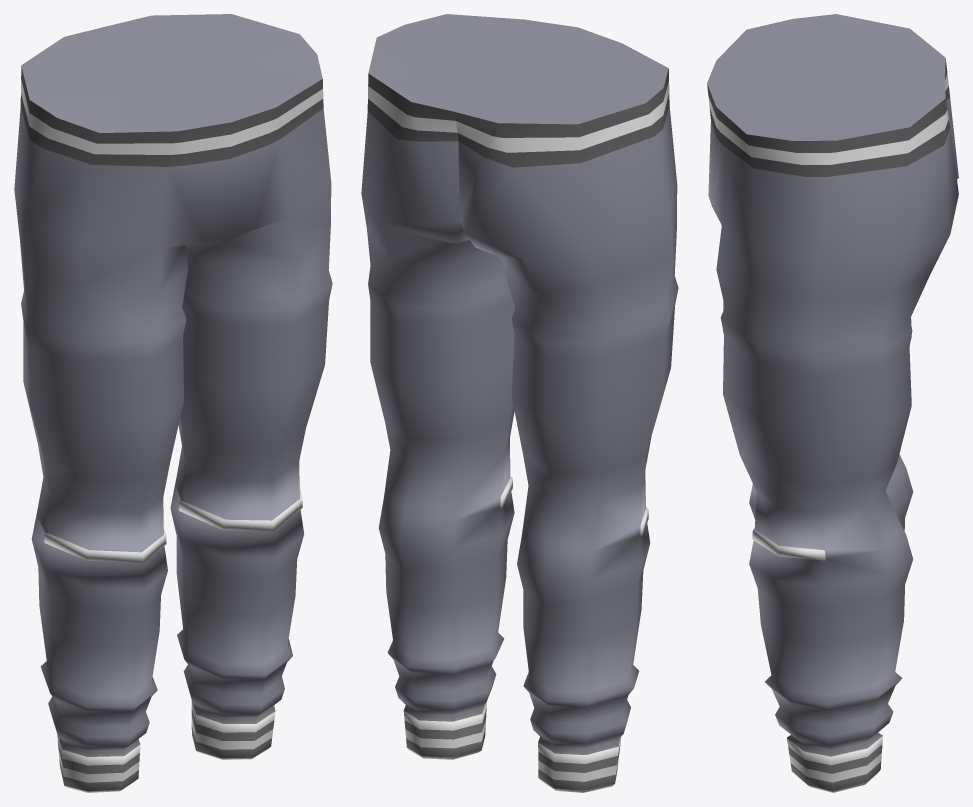
File: M_lBody_GreyJoggers.glb
The picture shows the model from 3 angles, left to right: view 1: azimuth 30°, elevation 25°; view 2: azimuth 150°, elevation 25°; view 3: azimuth 270°, elevation 25°; orthographic projection. The views are drawn at different scales.
Parts seen in each view (by area): view 1: M_lBody_GreyJoggers; view 2: M_lBody_GreyJoggers; view 3: M_lBody_GreyJoggers.
Boxes of the visible parts, left/top/right/bottom form: M_lBody_GreyJoggers: left=14, top=14, right=332, bottom=792; M_lBody_GreyJoggers: left=361, top=14, right=678, bottom=792; M_lBody_GreyJoggers: left=707, top=14, right=958, bottom=792.
Size of what is drawn, in the model's own units: 0.8415 by 1.85 by 0.6308.
1 material, 1 textured.
